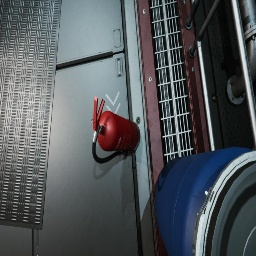FireExtinguisher ]: (91, 96, 140, 164)
